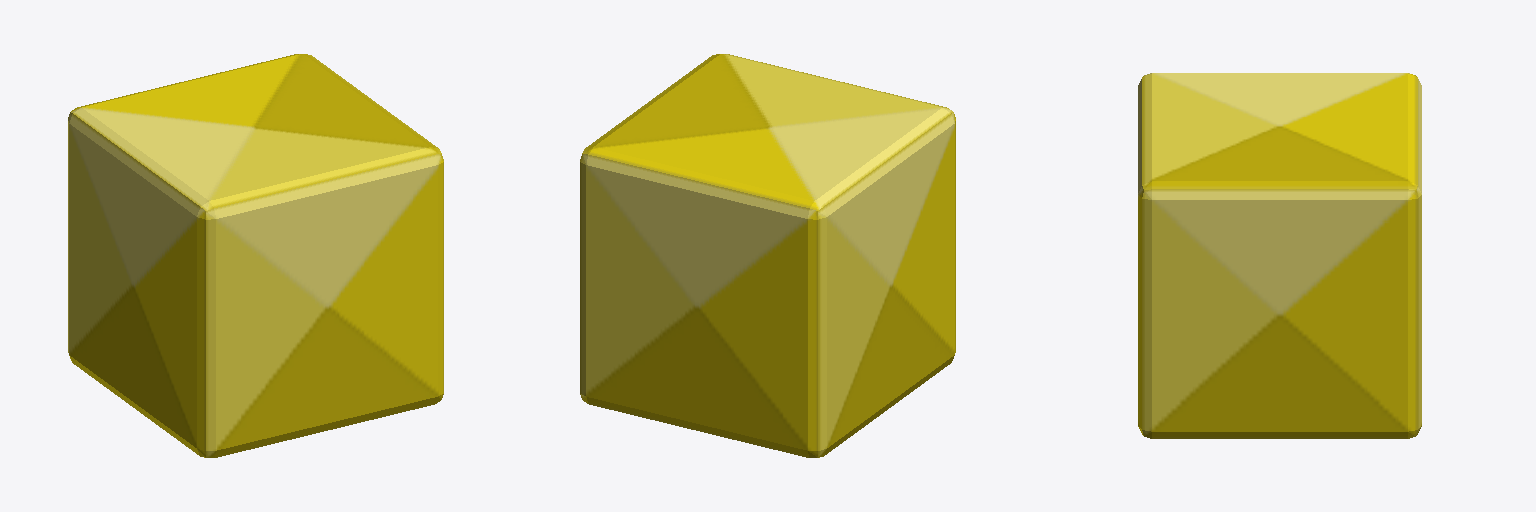
3 renders of one model, left to right at view 1: azimuth 30°, elevation 25°; view 2: azimuth 150°, elevation 25°; view 3: azimuth 270°, elevation 25°, orthographic.
Visible parts, largest first — view 1: 立方体; view 2: 立方体; view 3: 立方体.
Part boxes in pixels (left/top/right/bottom): 立方体: left=68, top=54, right=443, bottom=457; 立方体: left=580, top=54, right=955, bottom=457; 立方体: left=1138, top=73, right=1421, bottom=438.
Bounding box in the file's own units: 2 × 2 × 2.
1 materials, 1 textured.